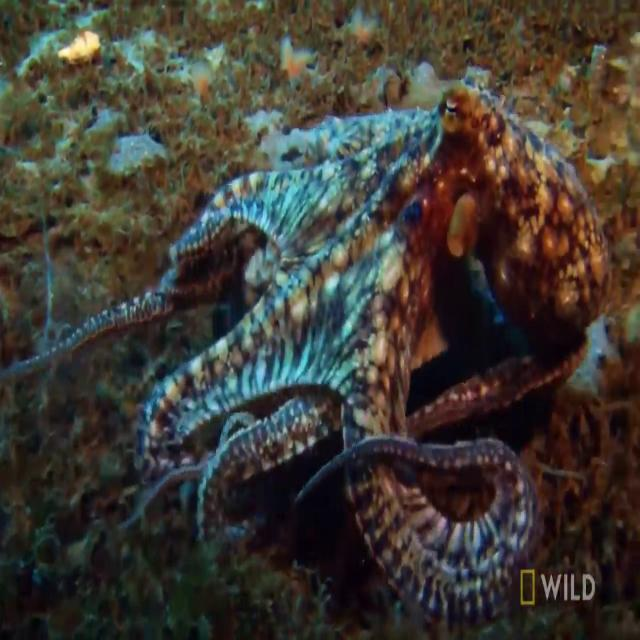octopus: (2, 76, 609, 640)
